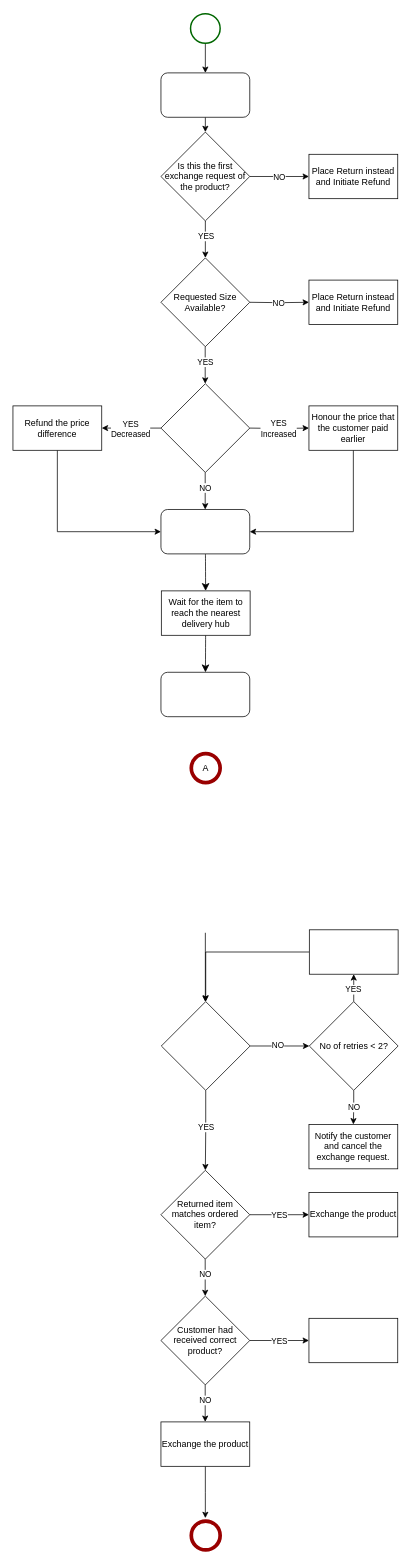
This 411x1564 diagram has some shape labels left out. The box of each missing label's shape, as (x1, y1, x2, y2) in pixels:
Cancel the exchange request: (308, 1318, 398, 1363)
Customer is available?: (161, 1001, 250, 1090)
Customer Requested for Exchange: (160, 72, 250, 117)
Has the price of the article changed?: (160, 383, 250, 472)
Notify the customer and retry exchange the next day: (309, 929, 398, 974)
Place the exchange order for the customer: (160, 509, 250, 554)
Schedule the hand-in-hand exchange: (160, 672, 250, 717)
